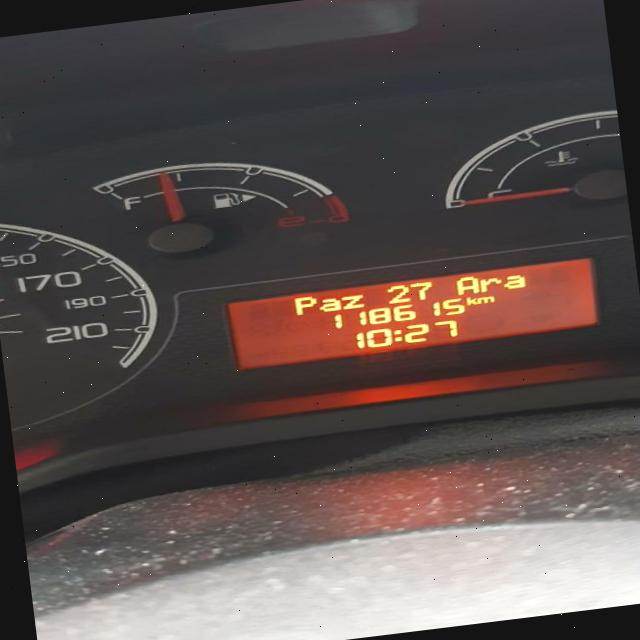odometer: (230, 256, 600, 372)
